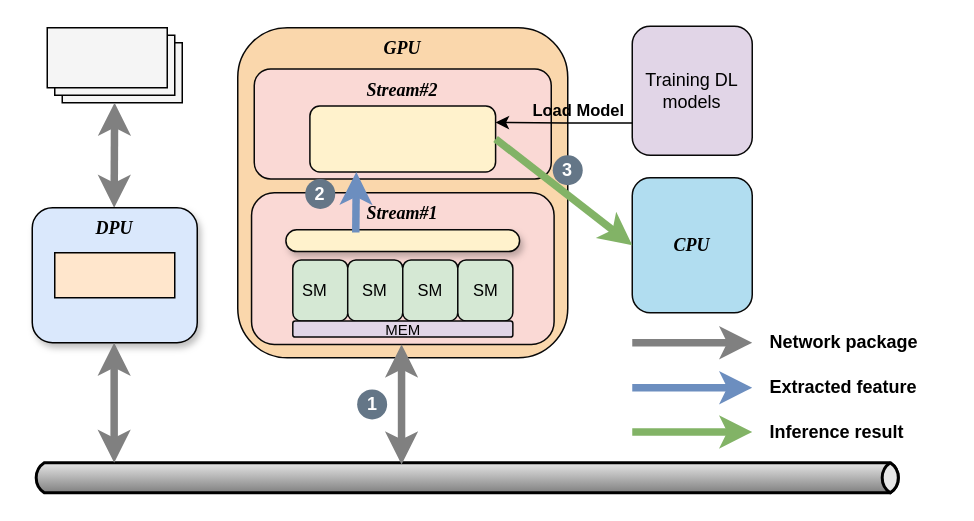
This 974x521 diagram has some shape labels left out. Each missing label, with the centre of its shape:
"Deep Learning Inference Engine" goes at (x=402, y=138).
"FlowManager" goes at (x=114, y=274).
"GPUFE" goes at (x=403, y=242).
"Packets" goes at (x=114, y=64).
"PCIE" goes at (x=466, y=477).
